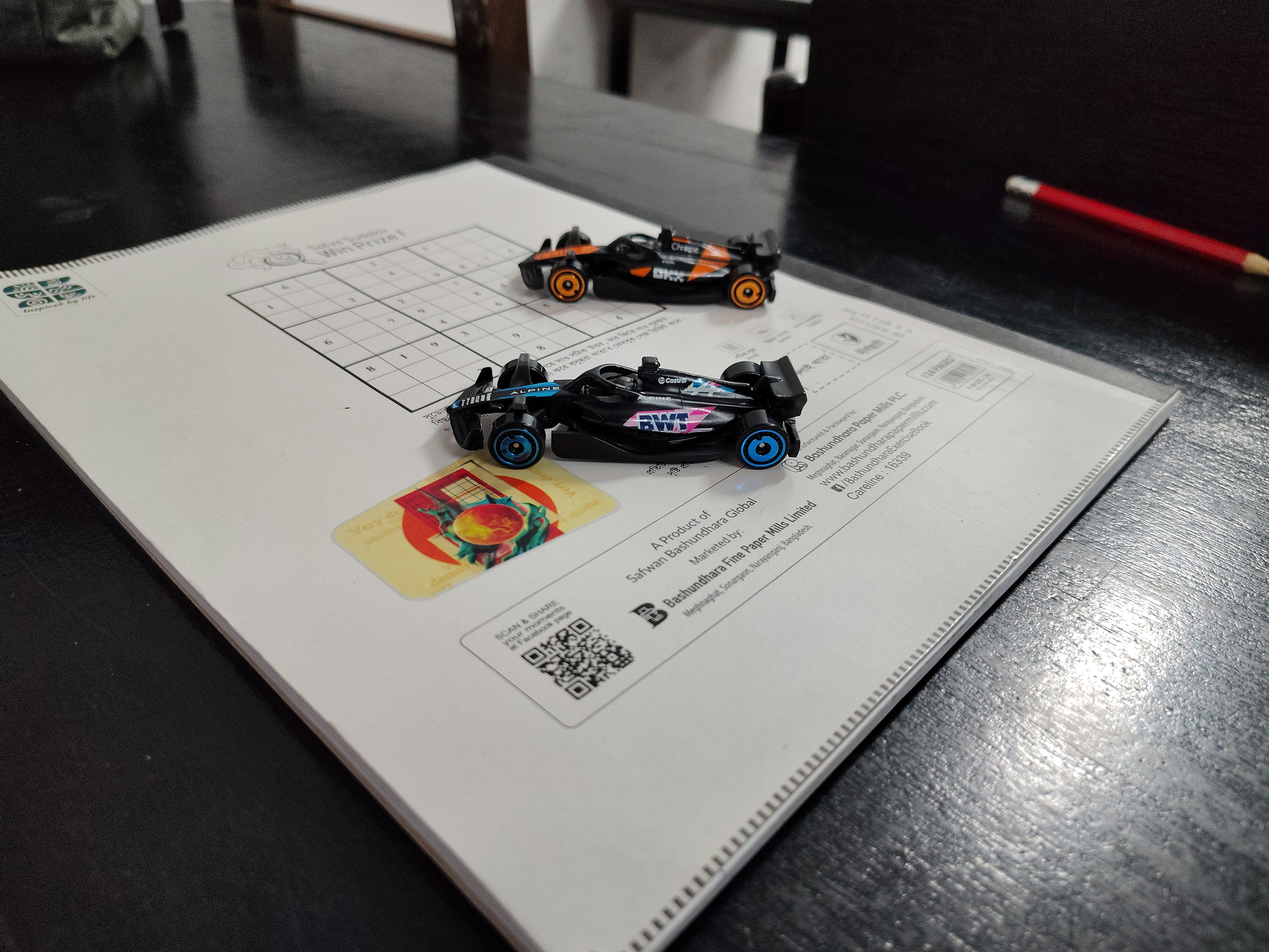Alpine A524: (339, 324, 866, 518)
McLaren MCL40: (483, 192, 847, 325)
